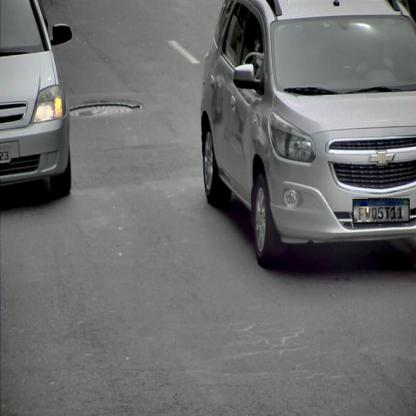PlacaM: (352, 198, 410, 224)
